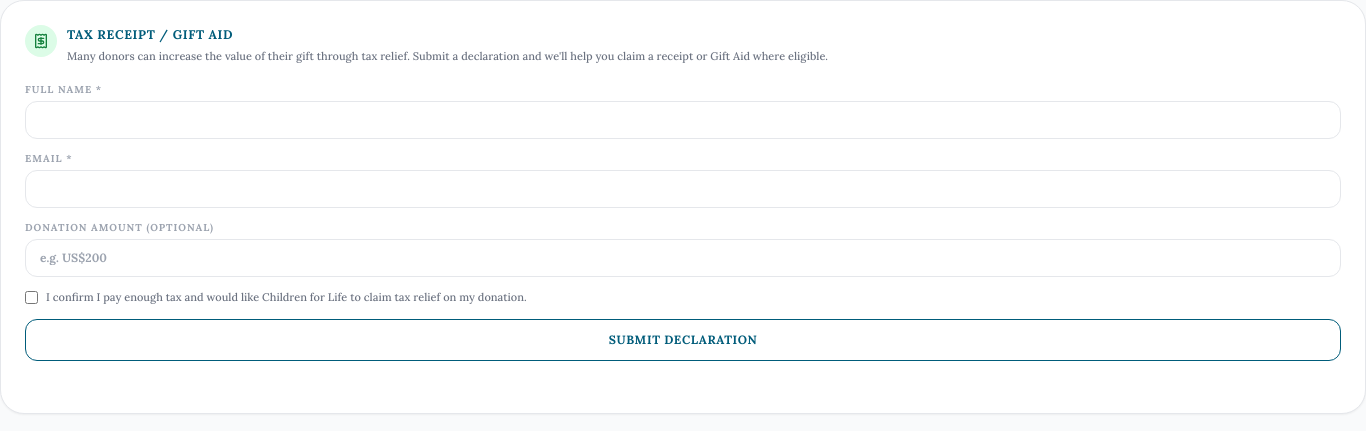
GiftAidForm › requires the declaration checkbox
The image size is (1366, 431).
Step 1. Type "Jane Doe" into the field labelled "Full name *" → (683, 120), box [25, 101, 1341, 139]
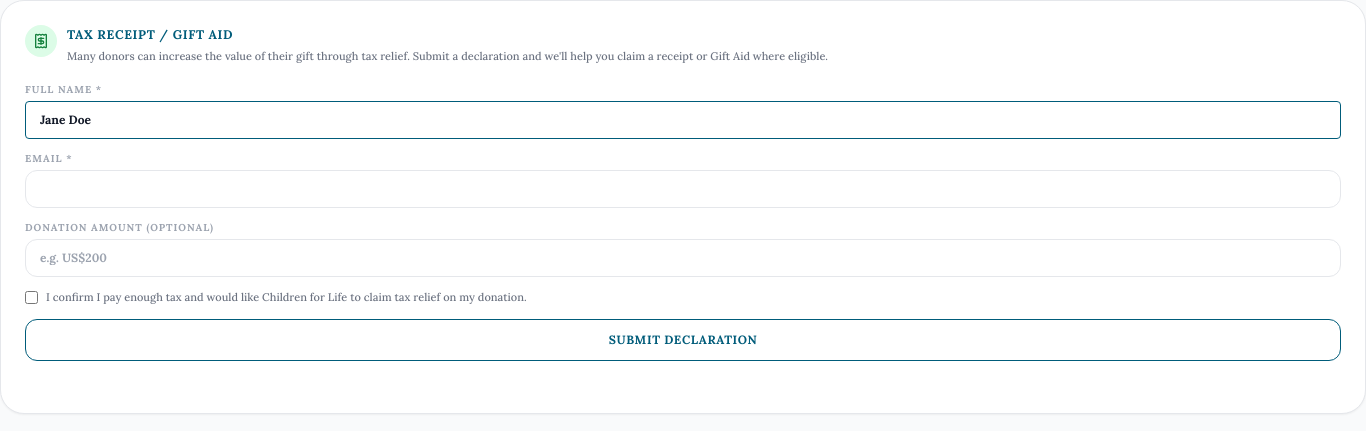
Step 2. Type "jane@example.com" into the field labelled "Email *" → (683, 189), box [25, 170, 1341, 208]
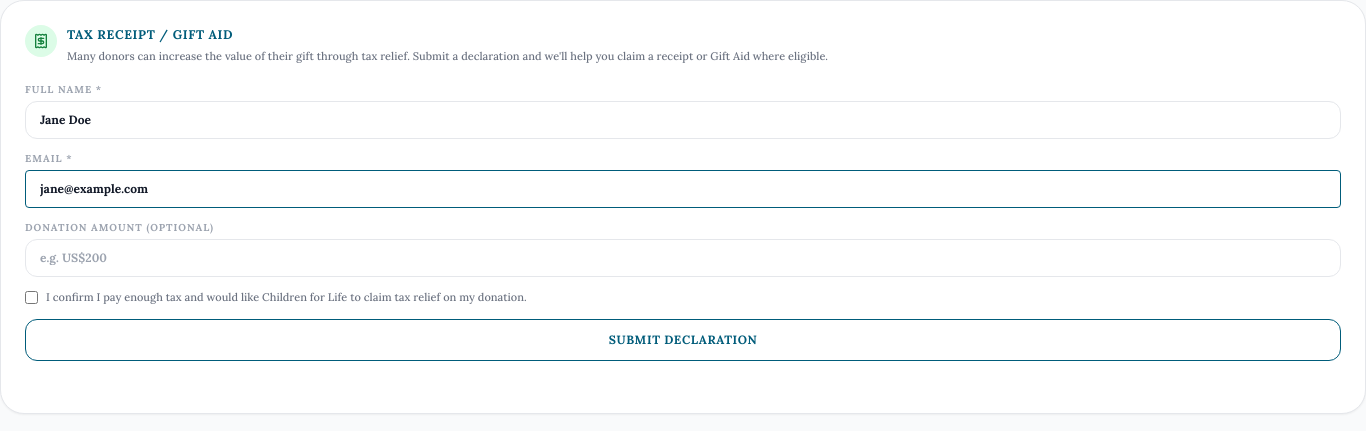
Step 3. Click the button "Submit Declaration" → (683, 340), box [25, 318, 1341, 360]
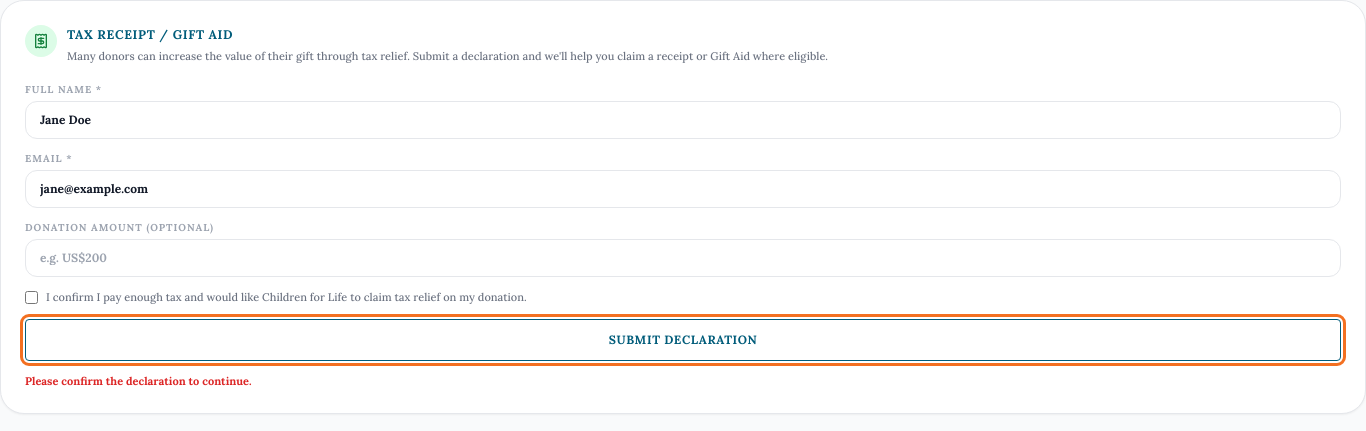
Now the text "Please confirm the declaration to continue." is shown, box [25, 374, 252, 388]
